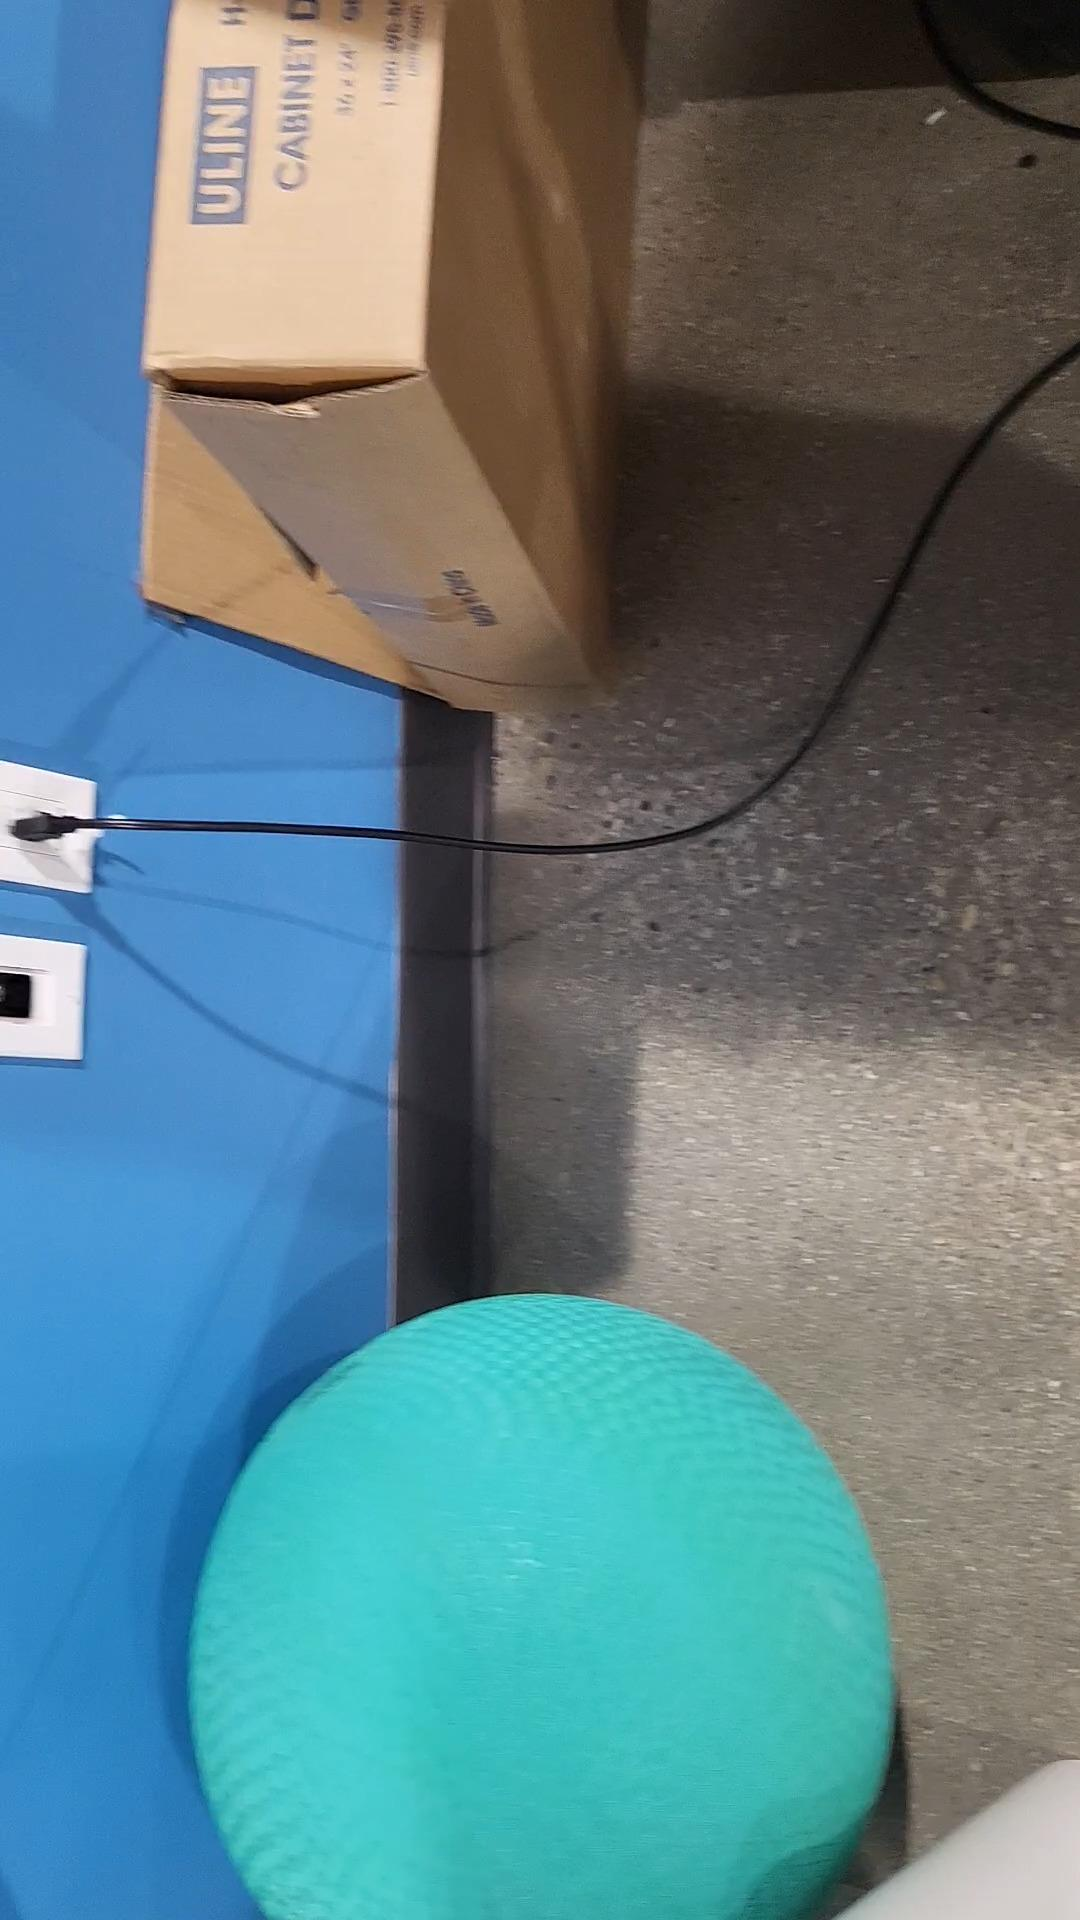algae: (193, 1295, 893, 1920)
